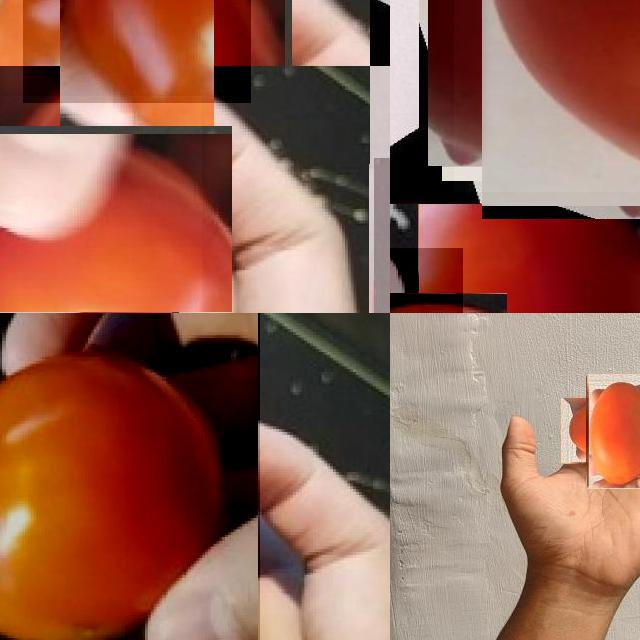0: (0, 313, 260, 640), (0, 96, 202, 313), (23, 0, 251, 103), (573, 386, 640, 476)
Fresh Tomato: (454, 0, 640, 192), (419, 204, 640, 313)
